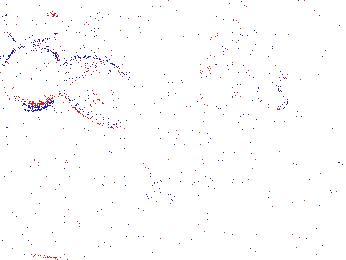moon jellyfish: (193, 40, 290, 112), (55, 57, 134, 129), (120, 38, 214, 94), (2, 43, 63, 113)
